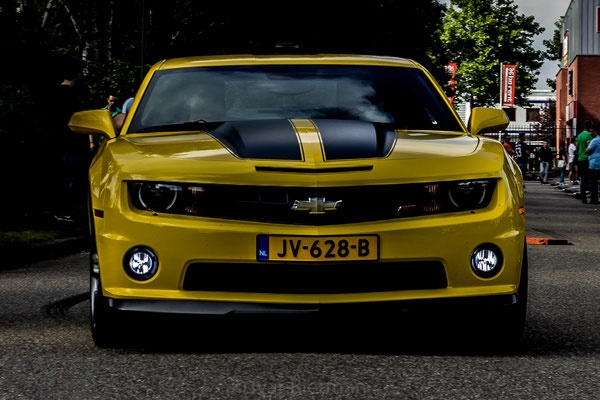number_plate: (256, 233, 381, 261)
